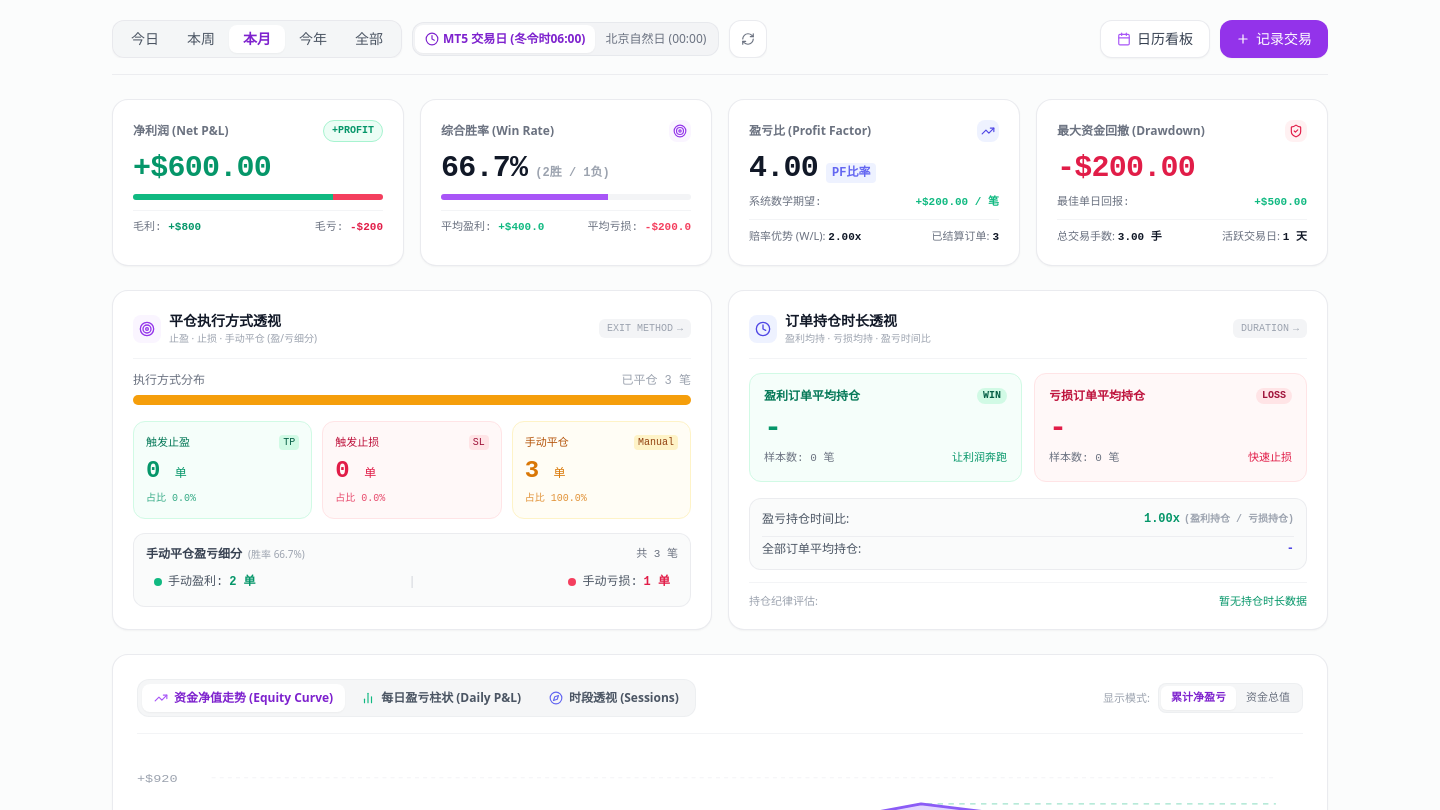
DashboardPage (TradeZella & TradeSync Style) › renders dual profit and loss bars with amounts and trade counts in Daily P&L tab
Expected: the text "净利润 (Net P&L)" is shown, [133, 123, 229, 139]
Switch to Daily P&L tab
Click the button "每日盈亏柱状 (Daily P&L)" at {"x": 441, "y": 698}, box [349, 684, 533, 712]
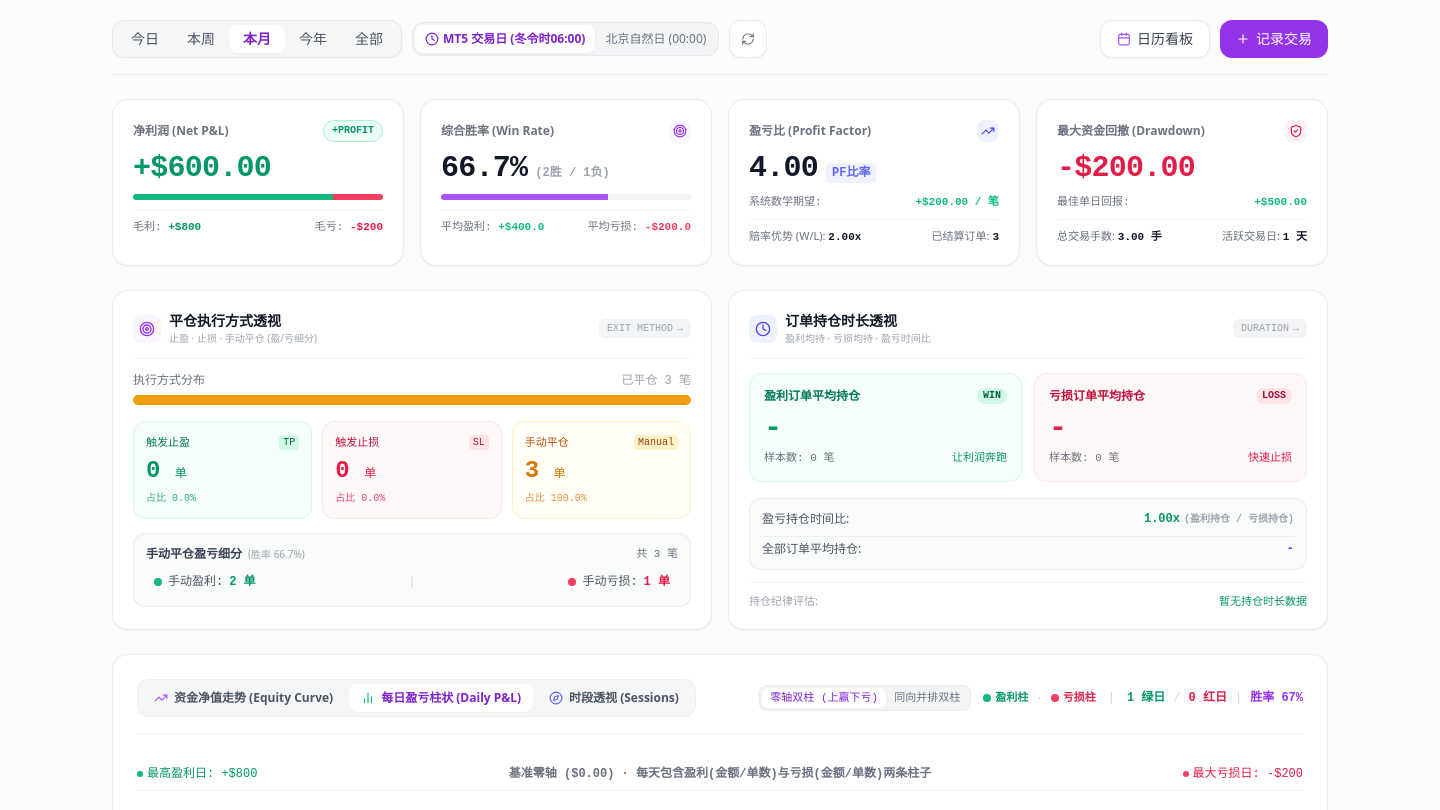
Expected: the button "零轴双柱 (上赢下亏)" is shown, [762, 688, 886, 708]
Expected: the button "同向并排双柱" is shown
Expected: the text "基准零轴 ($0.00) · 每天包含盈利(金额/单数)与亏损(金额/单数)两条柱子" is shown, [509, 766, 931, 782]
Test switching to side-by-side mode
Click the button "同向并排双柱" at {"x": 927, "y": 698}, box [886, 688, 968, 708]
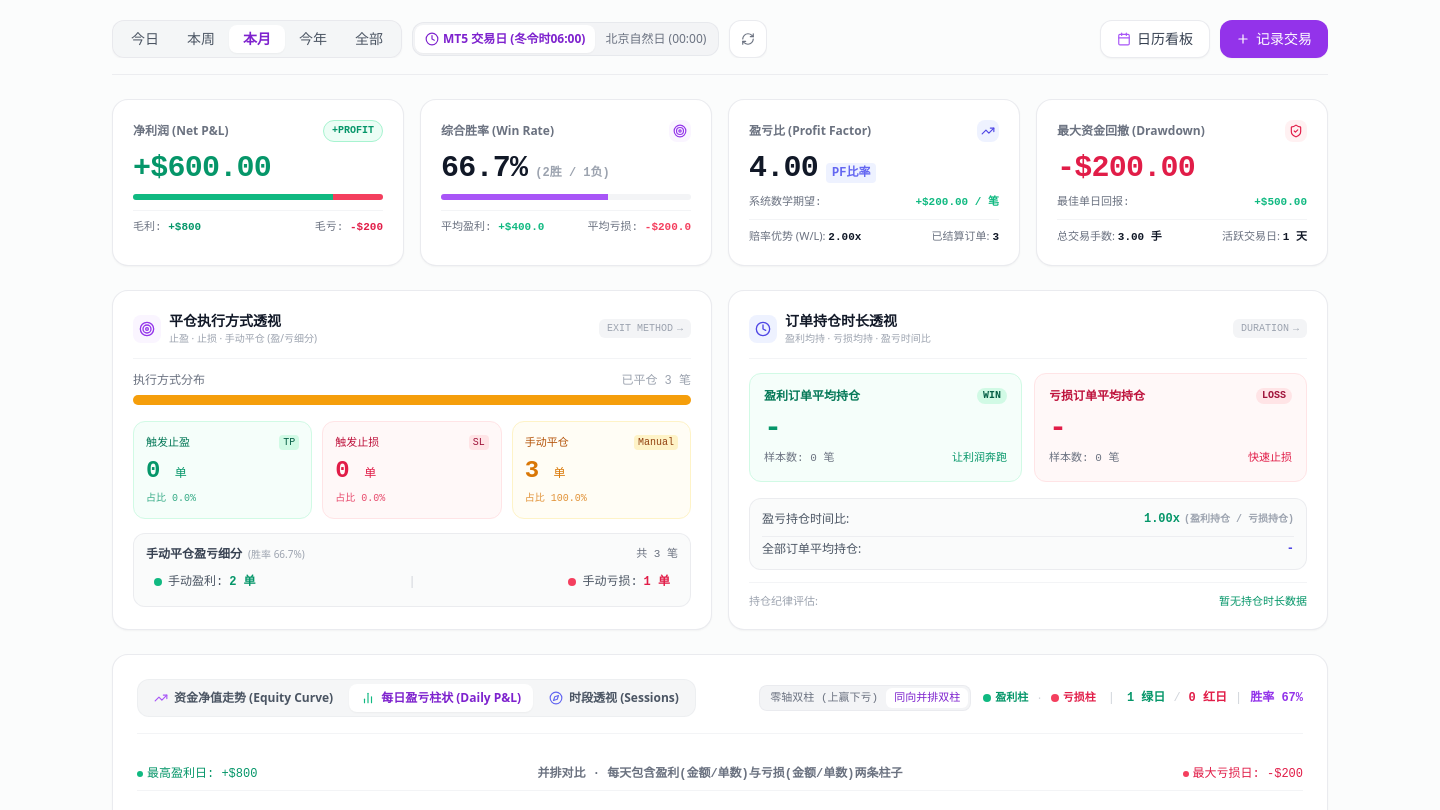
Expected: the text "并排对比 · 每天包含盈利(金额/单数)与亏损(金额/单数)两条柱子" is shown, [538, 766, 902, 782]
